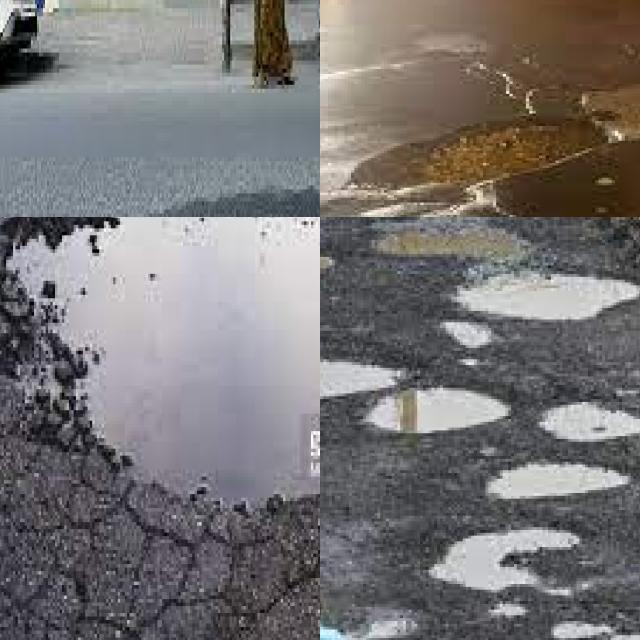Pothole: (15, 217, 320, 508), (351, 117, 603, 190), (429, 530, 579, 593), (460, 277, 640, 322), (366, 388, 508, 433), (485, 465, 628, 502), (540, 405, 640, 445), (320, 362, 394, 399)
